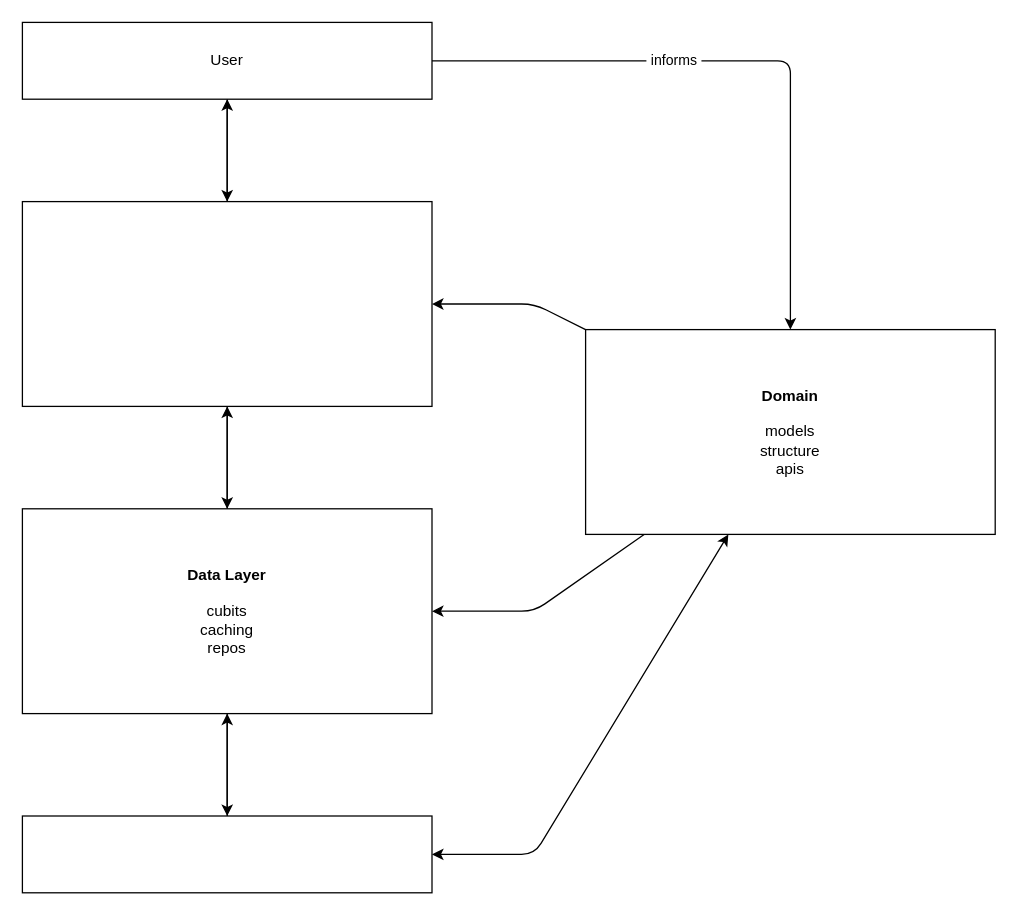
This 1018x915 diagram has some shape labels left out. The shapes that lost their labels are listed below. From the top down, each one's centre as x and y in pixels, then its label:
[226,303]: Presentation Layer screens widgets
[226,854]: Outside World (server)
